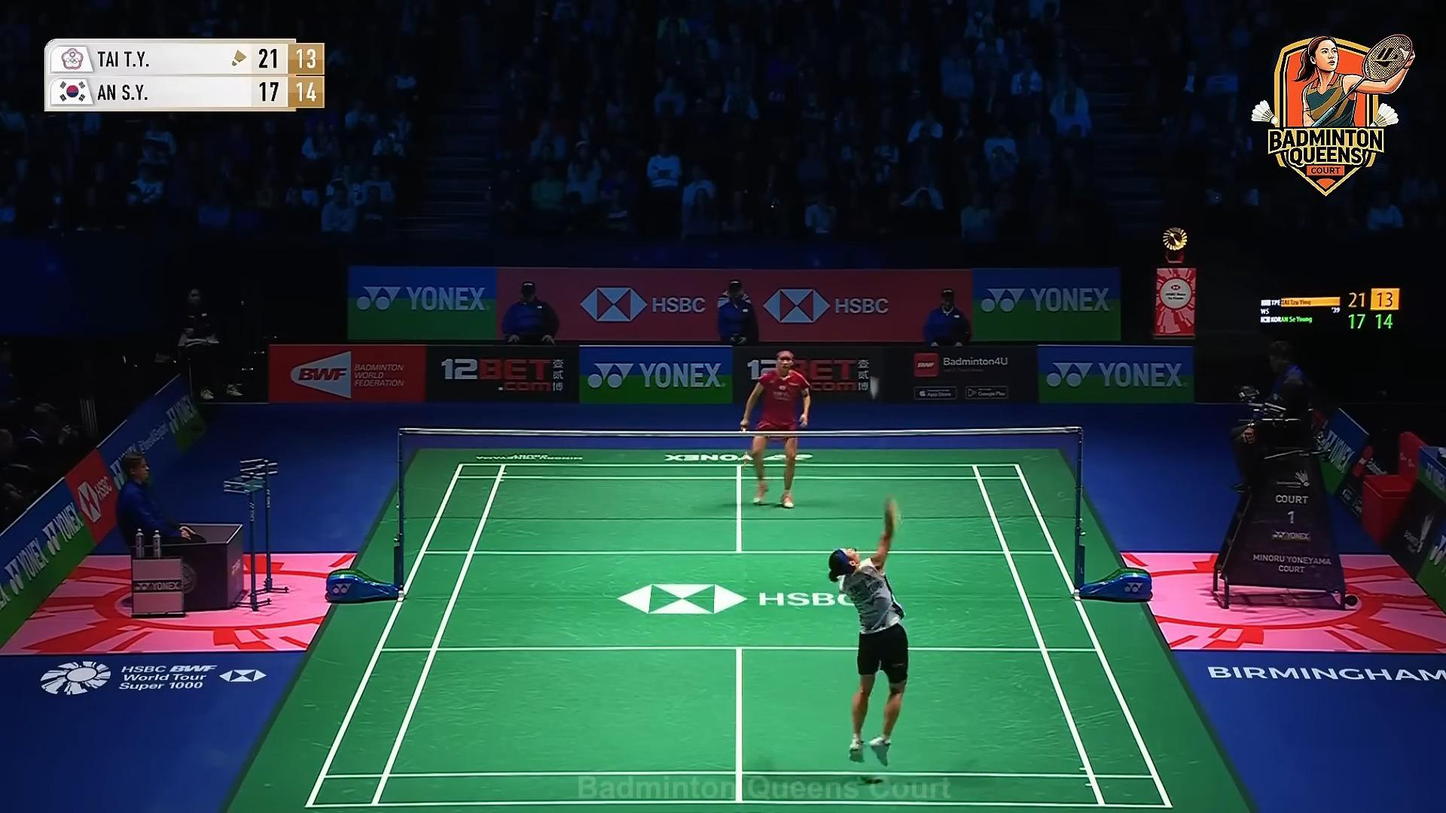player: (827, 498, 911, 772), (740, 346, 811, 510)
shuttlecock: (869, 376, 880, 401)
